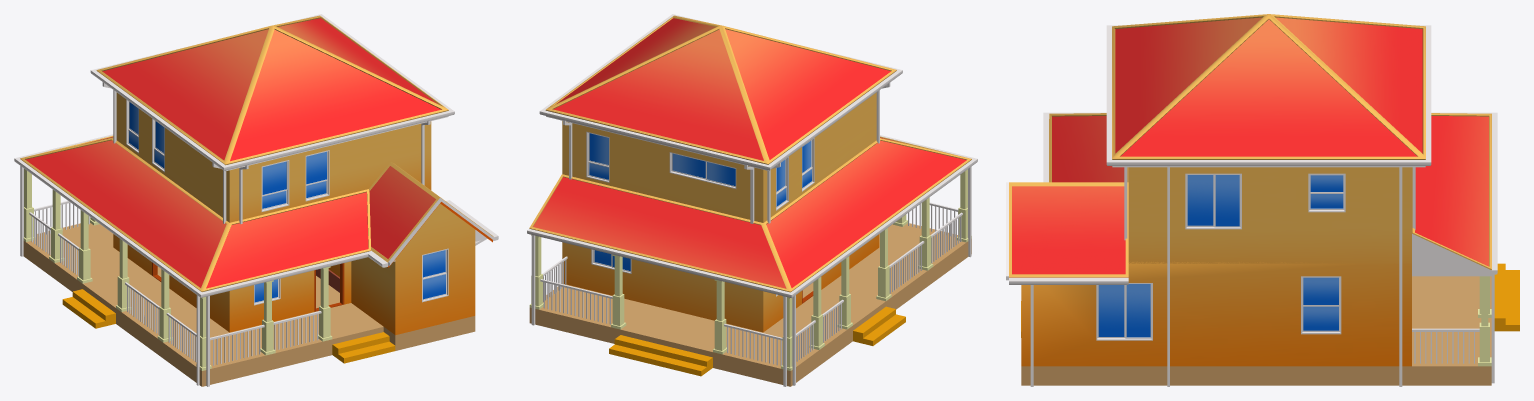
Rendered from House1.fbx.
The picture shows the model from 3 angles, left to right: view 1: azimuth 30°, elevation 25°; view 2: azimuth 150°, elevation 25°; view 3: azimuth 270°, elevation 25°; orthographic projection. The views are drawn at different scales.
Visible parts, largest first — view 1: House1; view 2: House1; view 3: House1.
Part boxes in pixels (x1,y1,x2,y2): House1: (14, 14, 498, 386); House1: (527, 14, 977, 386); House1: (1006, 14, 1519, 386).
Size of the model in its own units: 1705 by 1390 by 2077.
